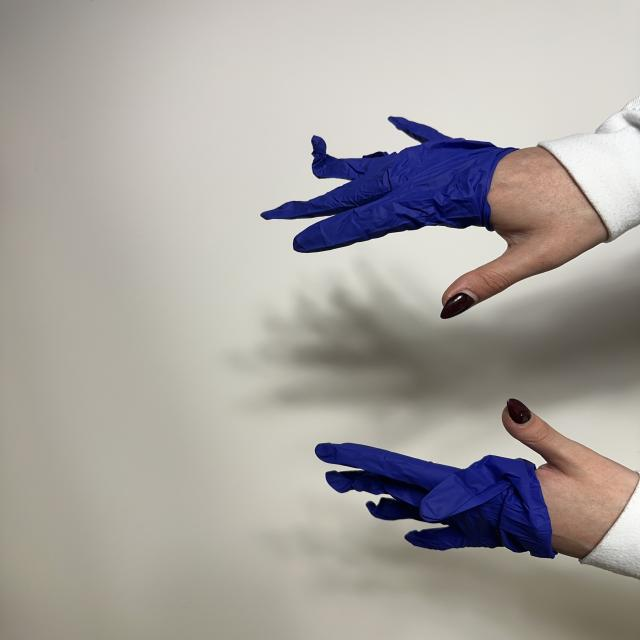glove_partial: (262, 118, 610, 318), (316, 399, 640, 562)
